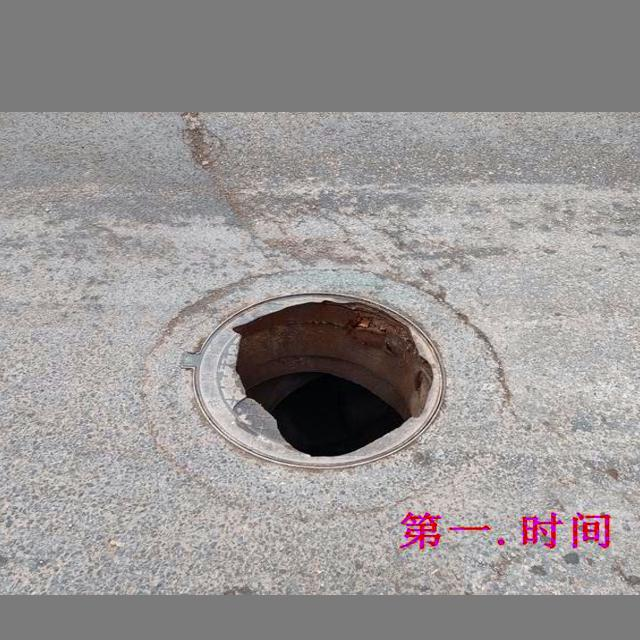broke: (143, 265, 520, 513)
